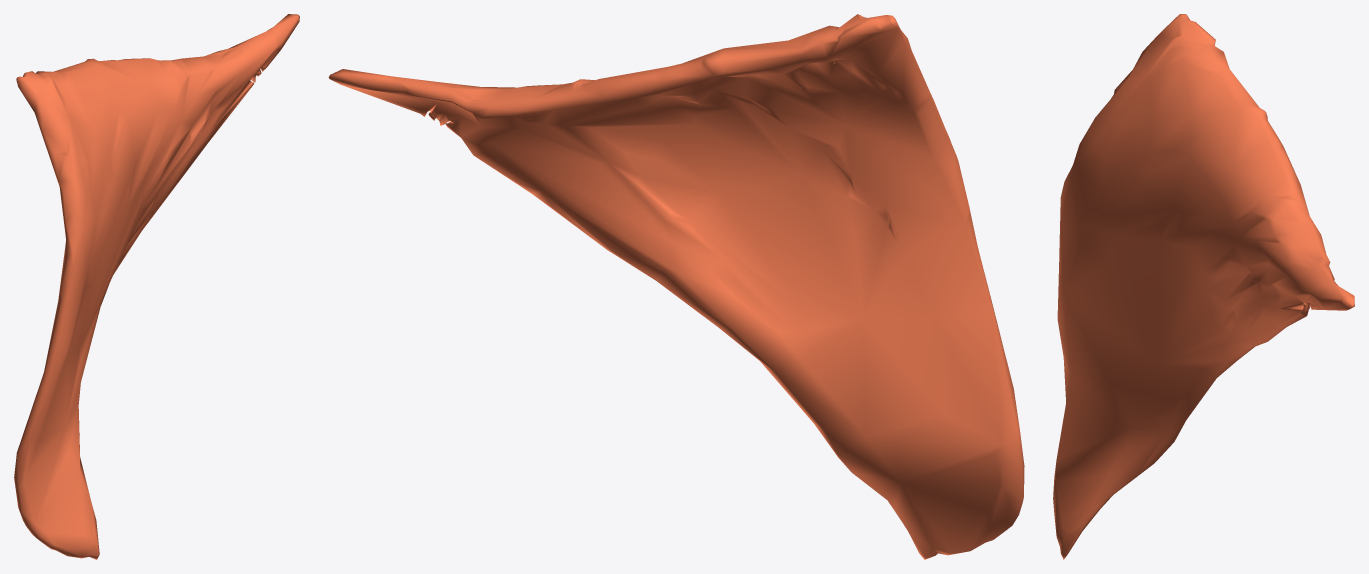
The model's file is Levator_labii_superioris.l_Generated_Mesh_From_X3D.392.glb.
3 renders of one model, left to right at view 1: azimuth 30°, elevation 25°; view 2: azimuth 150°, elevation 25°; view 3: azimuth 270°, elevation 25°, orthographic. The views are drawn at different scales.
Visible parts, largest first — view 1: Levator_labii_superioris.l_Generated_Mesh_From_X3D.392; view 2: Levator_labii_superioris.l_Generated_Mesh_From_X3D.392; view 3: Levator_labii_superioris.l_Generated_Mesh_From_X3D.392.
Boxes of the visible parts, x1,y1,x2,y2 form: Levator_labii_superioris.l_Generated_Mesh_From_X3D.392: (14,14,299,559); Levator_labii_superioris.l_Generated_Mesh_From_X3D.392: (328,14,1024,559); Levator_labii_superioris.l_Generated_Mesh_From_X3D.392: (1053,14,1354,559).
Size of the model in its own units: 0.027 by 0.0289 by 0.0149.
